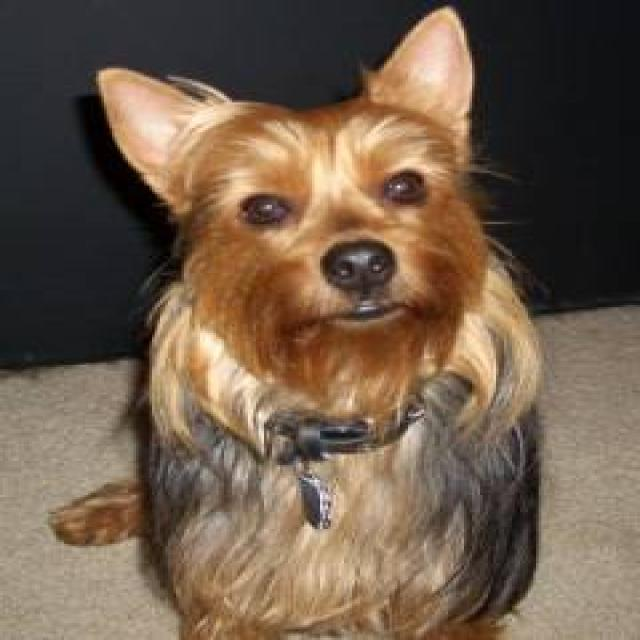dog-yorkshire_terrier: (35, 2, 552, 636)
